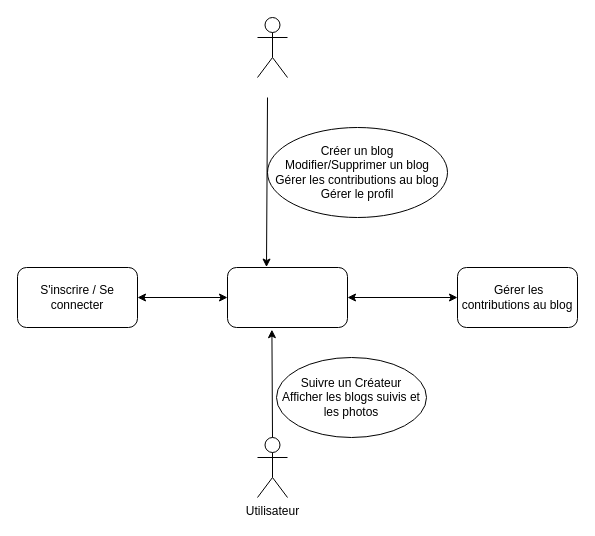
The diagram is 595 pixels wide and 536 high, and some of its shapes have lost their labels. Each missing label, with the centre of its shape:
"Consulter le site" belongs at (x=287, y=297).
"Créateur" belongs at (x=272, y=47).
